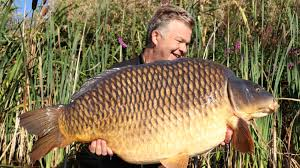carp: (18, 58, 280, 168)
